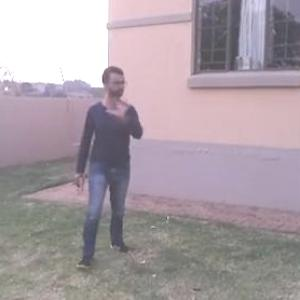follow_hand: (104, 94, 134, 119)
